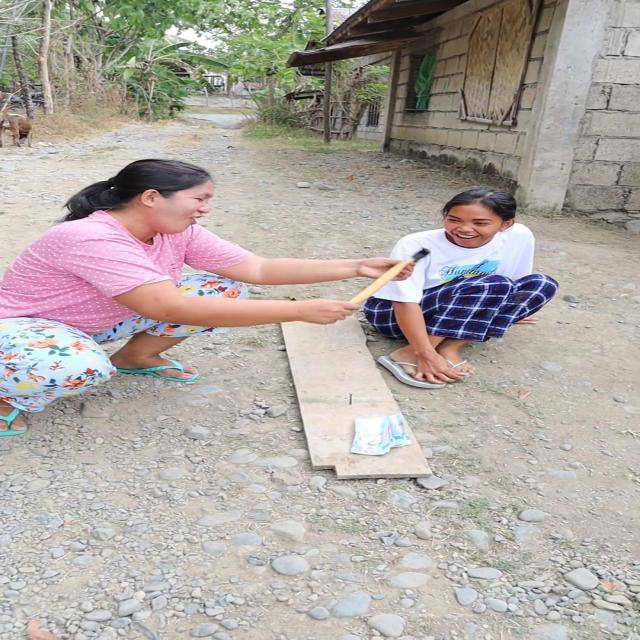hammer: (346, 247, 433, 310)
